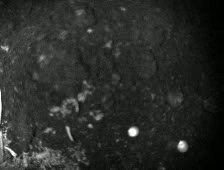corn: (175, 138, 190, 156), (127, 124, 141, 140)
